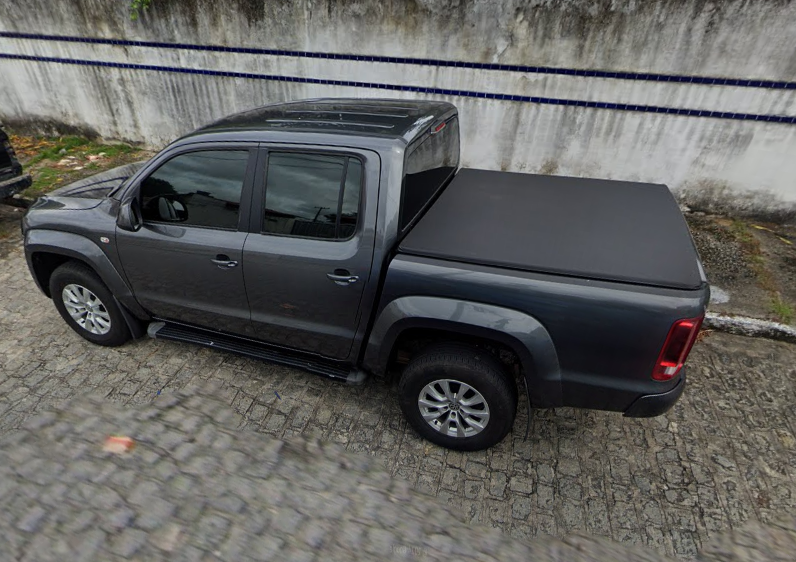car: (20, 96, 712, 456)
